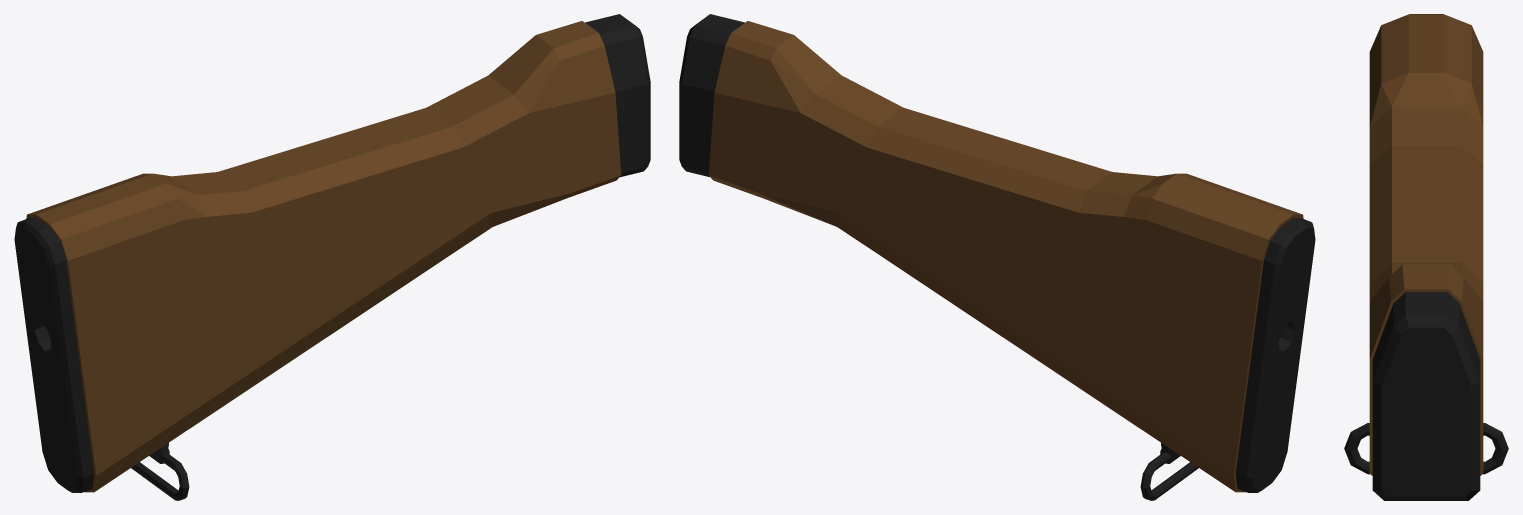
Rendered from fn_fal_stock.glb.
The picture shows the model from 3 angles, left to right: view 1: azimuth 30°, elevation 25°; view 2: azimuth 150°, elevation 25°; view 3: azimuth 270°, elevation 25°; orthographic projection. The views are drawn at different scales.
Visible parts, largest first — view 1: fal stock_14 (×2); view 2: fal stock_14 (×2); view 3: fal stock_14 (×2).
Boxes of the visible parts, x1,y1,x2,y2 form: fal stock_14 (×2): (14, 14, 650, 500); fal stock_14 (×2): (679, 14, 1315, 500); fal stock_14 (×2): (1344, 14, 1508, 500).
Size of the model in its own units: 2.6 by 1.45 by 0.4641.
